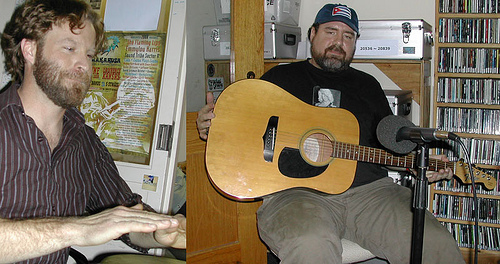guitar: (206, 77, 497, 201)
